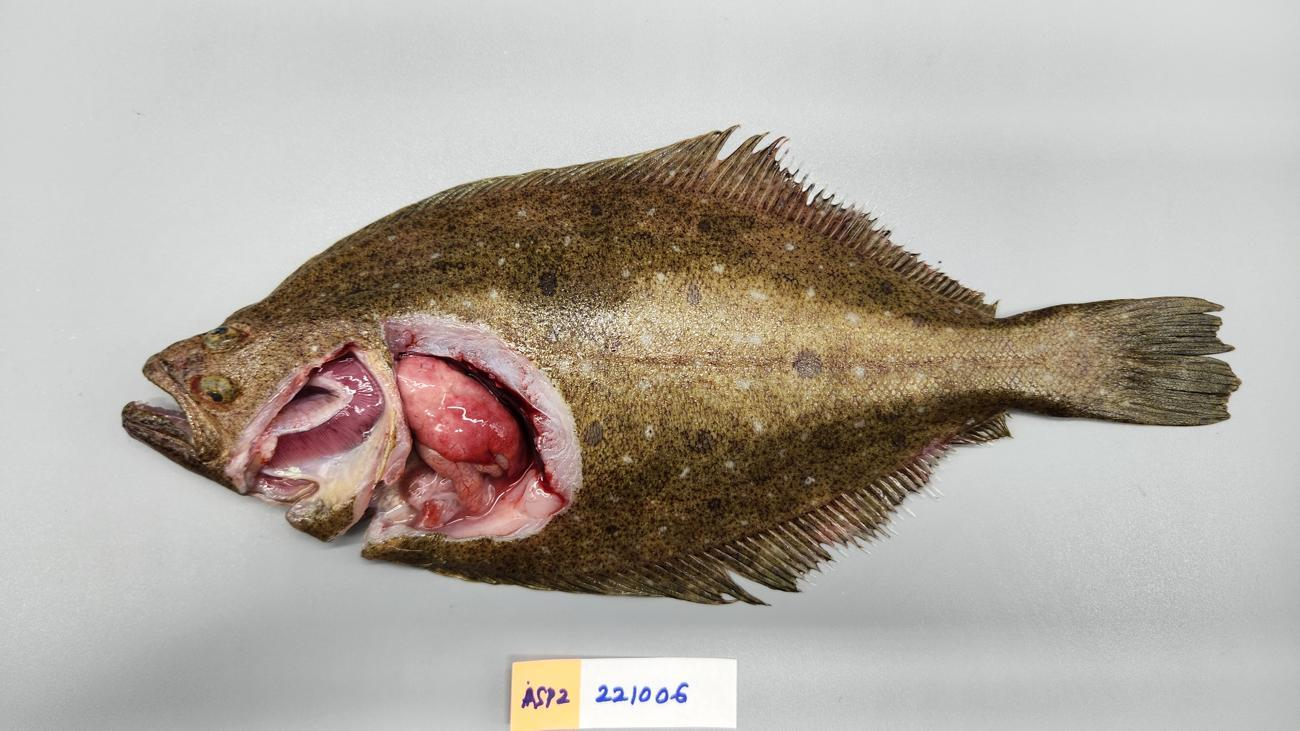SPLIC: (395, 354, 522, 476)
